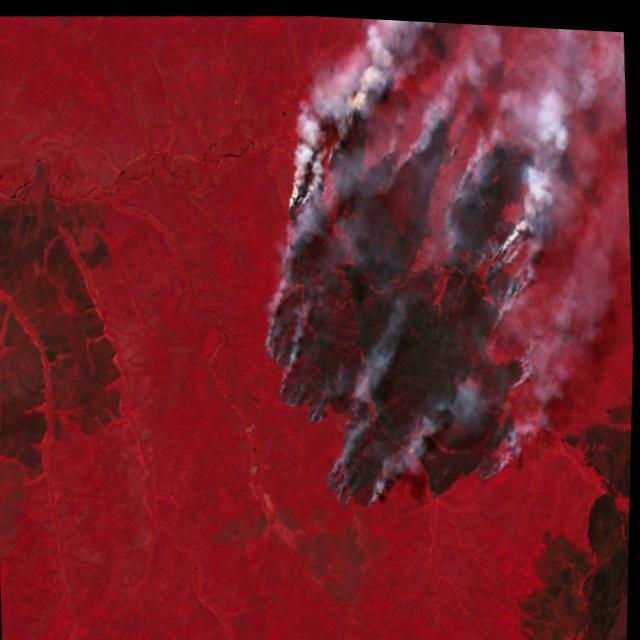fire: (248, 84, 557, 524)
